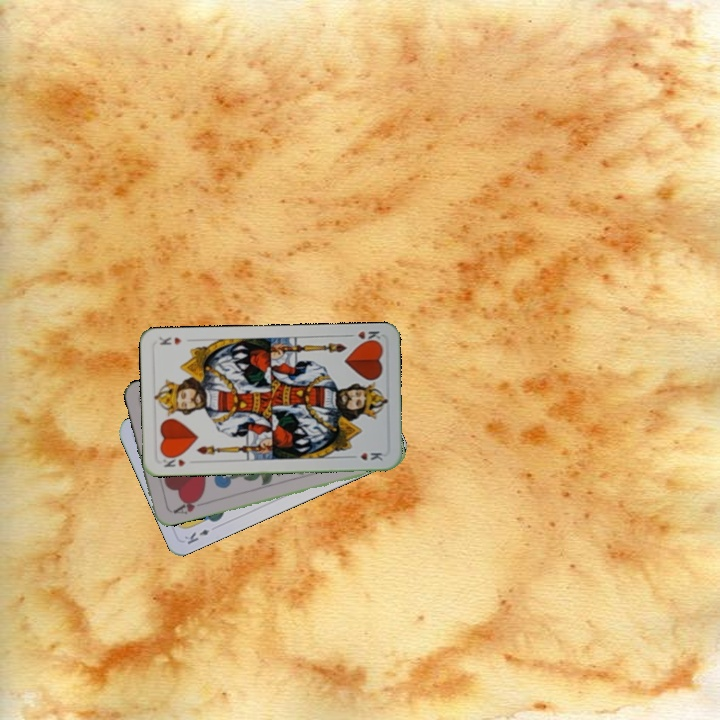EK: (180, 525, 212, 547)
HA: (167, 493, 207, 517)
HK: (343, 327, 384, 346), (159, 455, 188, 469)
